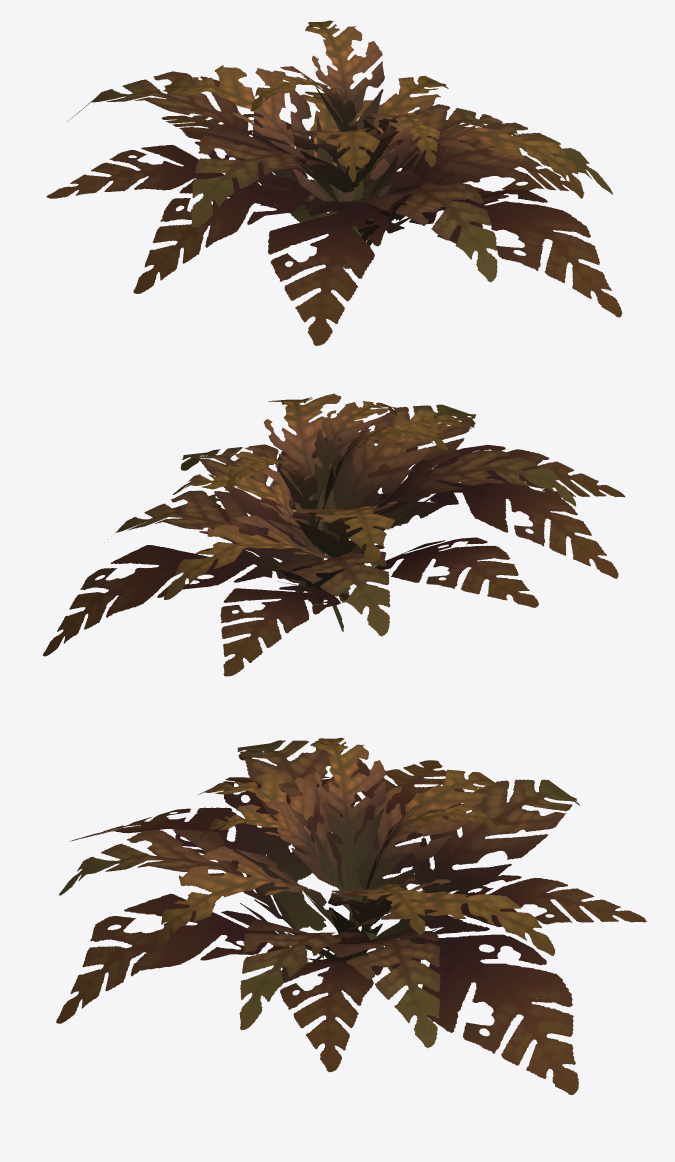
The model's file is 2_Plant_GuanMu_03.FBX.
The picture shows the model from 3 angles, top to bottom: view 1: azimuth 30°, elevation 25°; view 2: azimuth 150°, elevation 25°; view 3: azimuth 270°, elevation 25°; orthographic projection. The views are drawn at different scales.
Parts seen in each view (by area): view 1: 2_Plant_GuanMu_03; view 2: 2_Plant_GuanMu_03; view 3: 2_Plant_GuanMu_03.
Part boxes in pixels (x1,y1,x2,y2): 2_Plant_GuanMu_03: (46,20,622,345); 2_Plant_GuanMu_03: (43,393,625,676); 2_Plant_GuanMu_03: (56,737,646,1094).
Size of the model in its own units: 102 by 44.27 by 105.
Materials: 1 (1 with a texture image).
